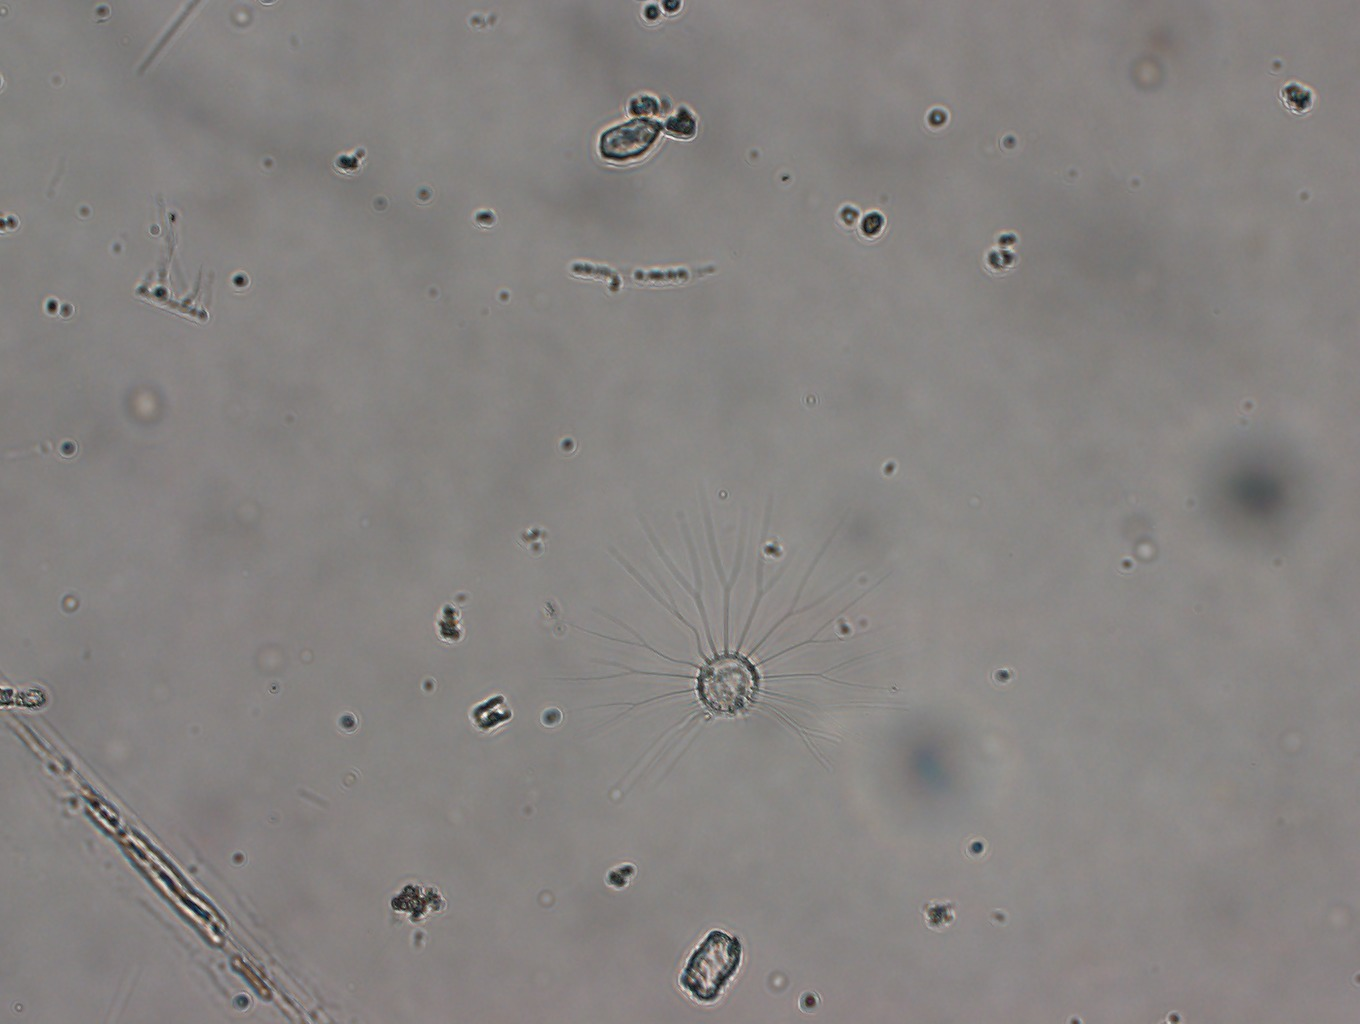bacteriastrum: (540, 477, 916, 809)
